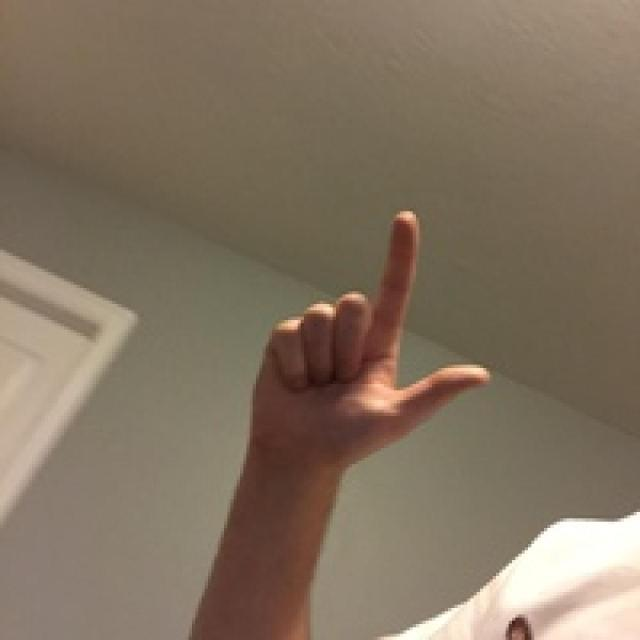L: (192, 175, 526, 500)
